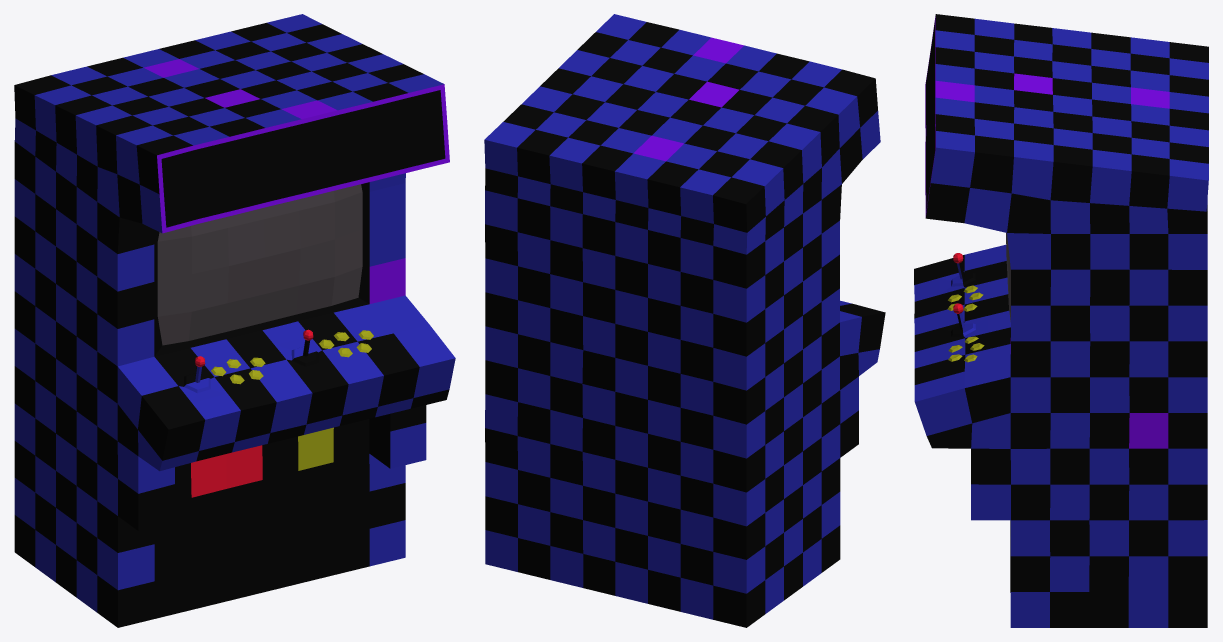
File: Arcade.glb
3 views of the same model, side by side, from view 1: azimuth 30°, elevation 25°; view 2: azimuth 150°, elevation 25°; view 3: azimuth 270°, elevation 25° (orthographic). The views are drawn at different scales.
Parts seen in each view (by area): view 1: Cube; view 2: Cube; view 3: Cube.
Part boxes in pixels (x1,y1,x2,y2): Cube: [14, 14, 455, 627]; Cube: [484, 14, 885, 627]; Cube: [914, 14, 1208, 627].
Size of the model in its own units: 2.65 by 4.42 by 2.45.
